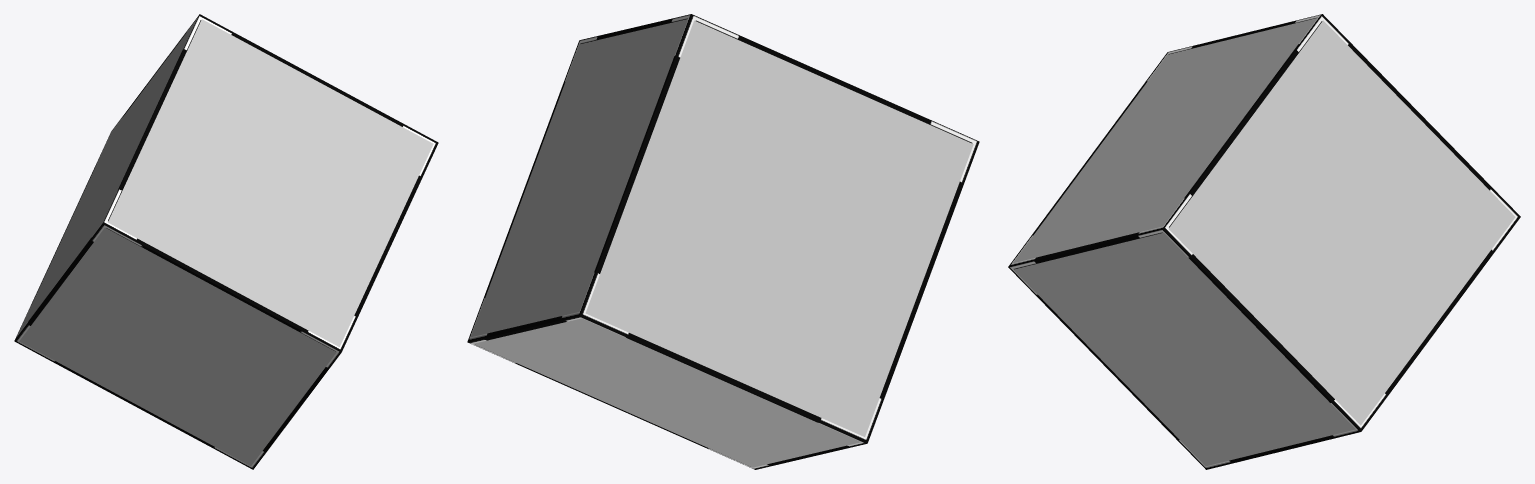
Rendered from GodCube.fbx.
3 renders of one model, left to right at view 1: azimuth 30°, elevation 25°; view 2: azimuth 150°, elevation 25°; view 3: azimuth 270°, elevation 25°, orthographic. The views are drawn at different scales.
Parts seen in each view (by area): view 1: God_cube; view 2: God_cube; view 3: God_cube.
Part boxes in pixels (box(x1,y1,x2,y2)): God_cube: box(14, 14, 438, 469); God_cube: box(467, 14, 979, 469); God_cube: box(1008, 14, 1520, 469).
Size of the model in its own units: 302 by 358 by 366.
2 materials, 1 textured.
